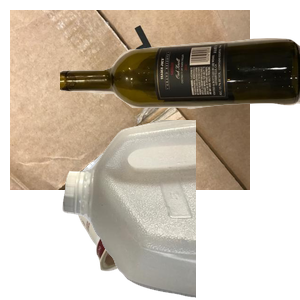cardboard: (10, 10, 250, 190)
glass: (60, 36, 300, 147)
plastic: (60, 120, 300, 300)
trash: (70, 149, 254, 300)
